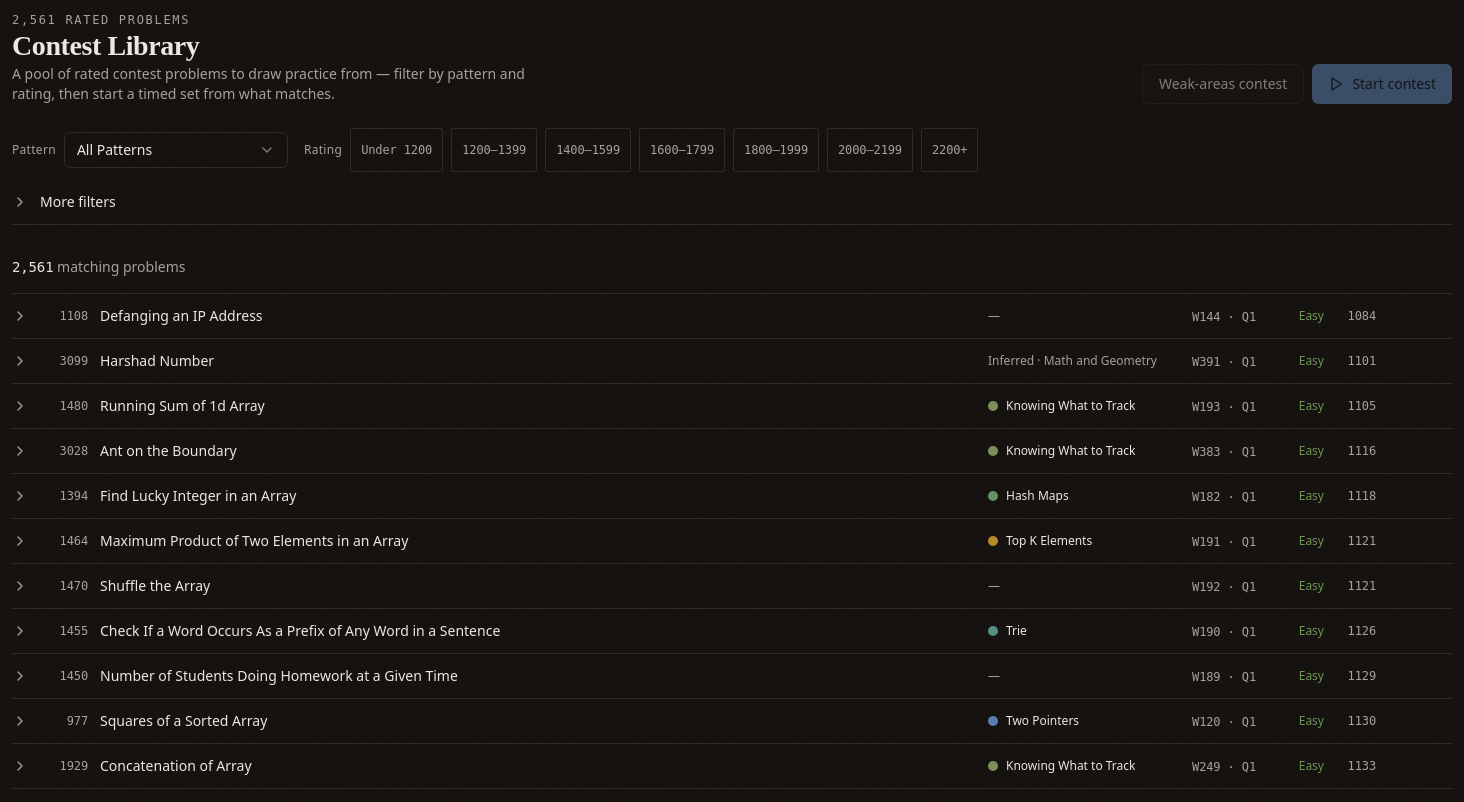
ContestPracticePage — the library and its one filter system › the weak-areas draw and recreation are refused while a sitting runs — a live contest is a commitment
This screenshot has width=1464, height=802.
Expected: the button "Start contest" is disabled, [1312,64,1452,104]
Expected: the button "Weak-areas contest" is disabled, [1142,64,1304,104]
Click the heading "Defanging an IP Address".
click(181, 316)  # box [12,306,1446,325]
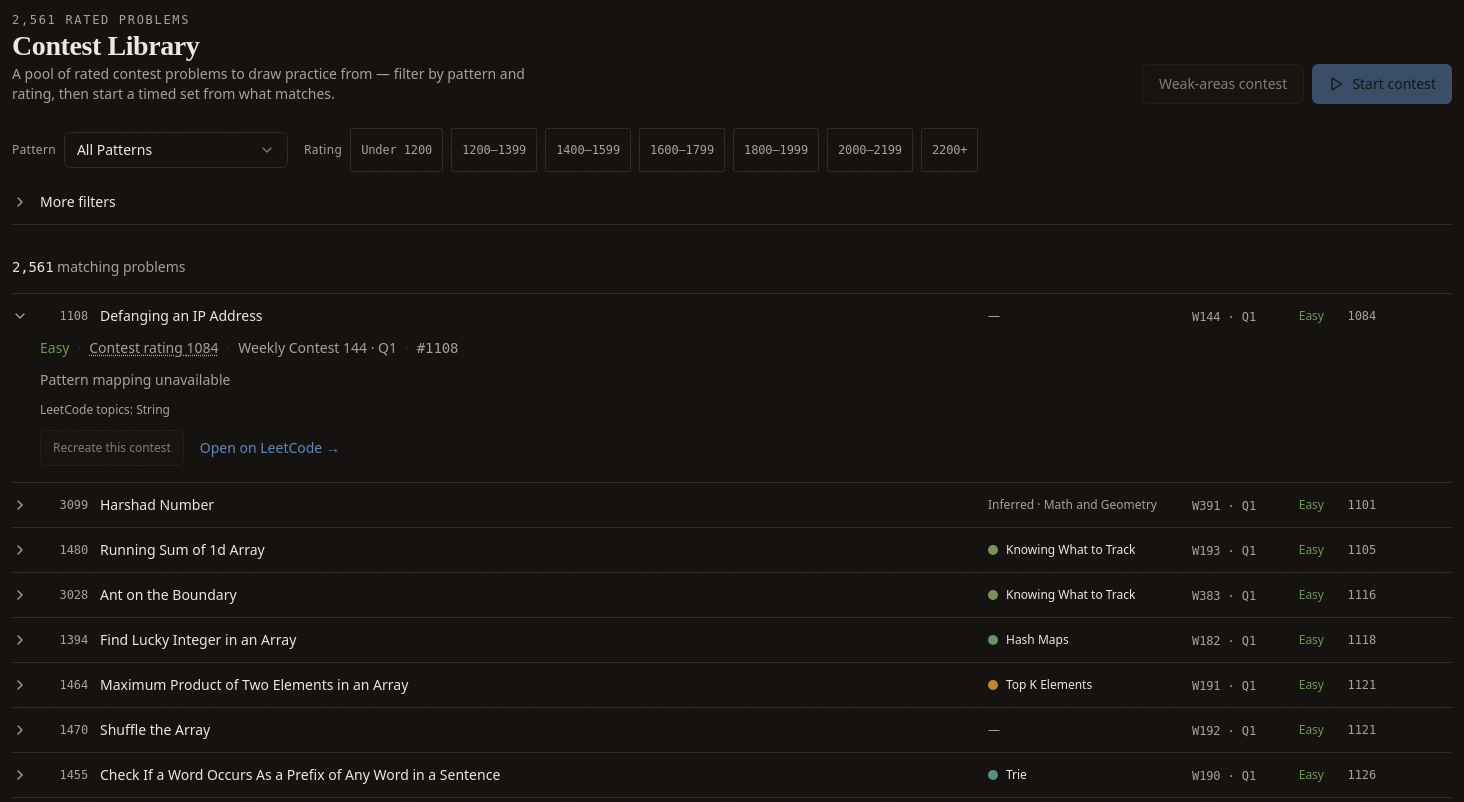
Now the button "Recreate this contest" is disabled, box [40,430,184,466]
